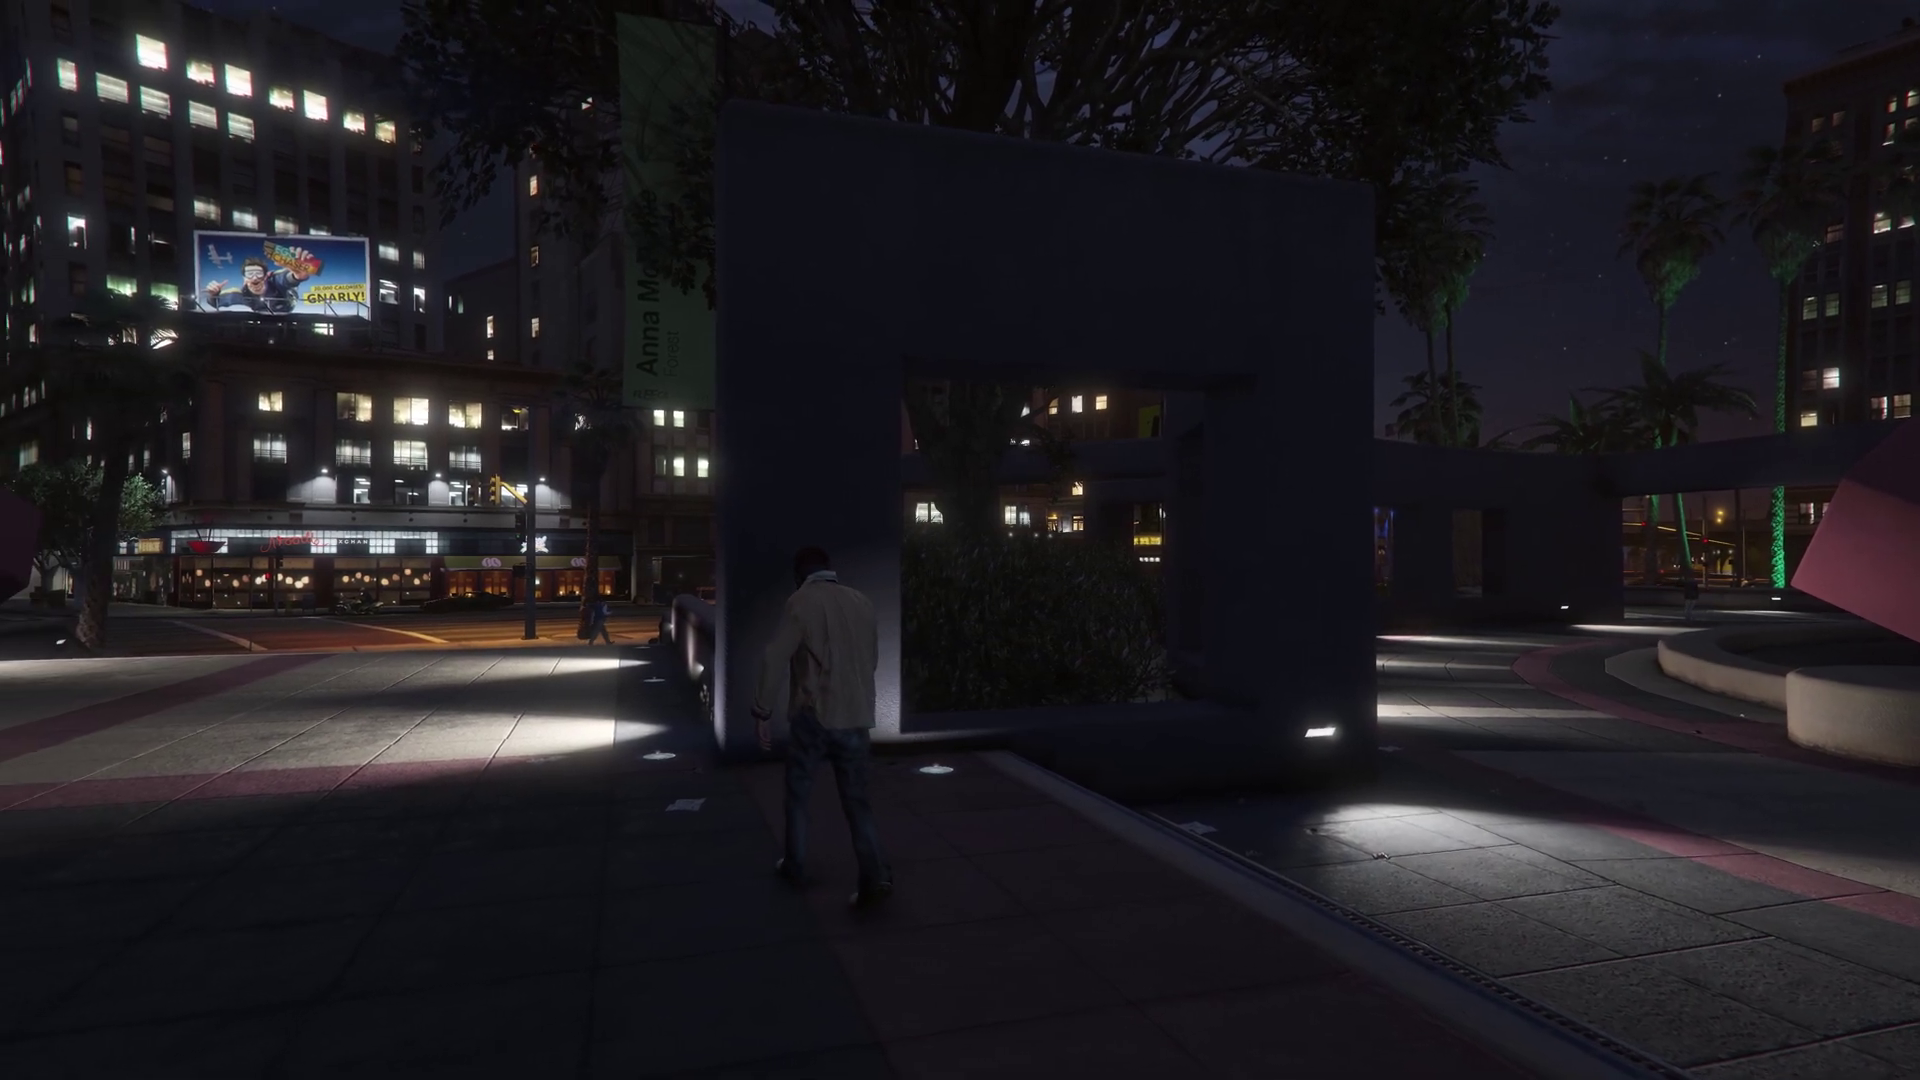car: (423, 590, 513, 610)
person: (759, 548, 891, 914), (588, 599, 614, 646)
